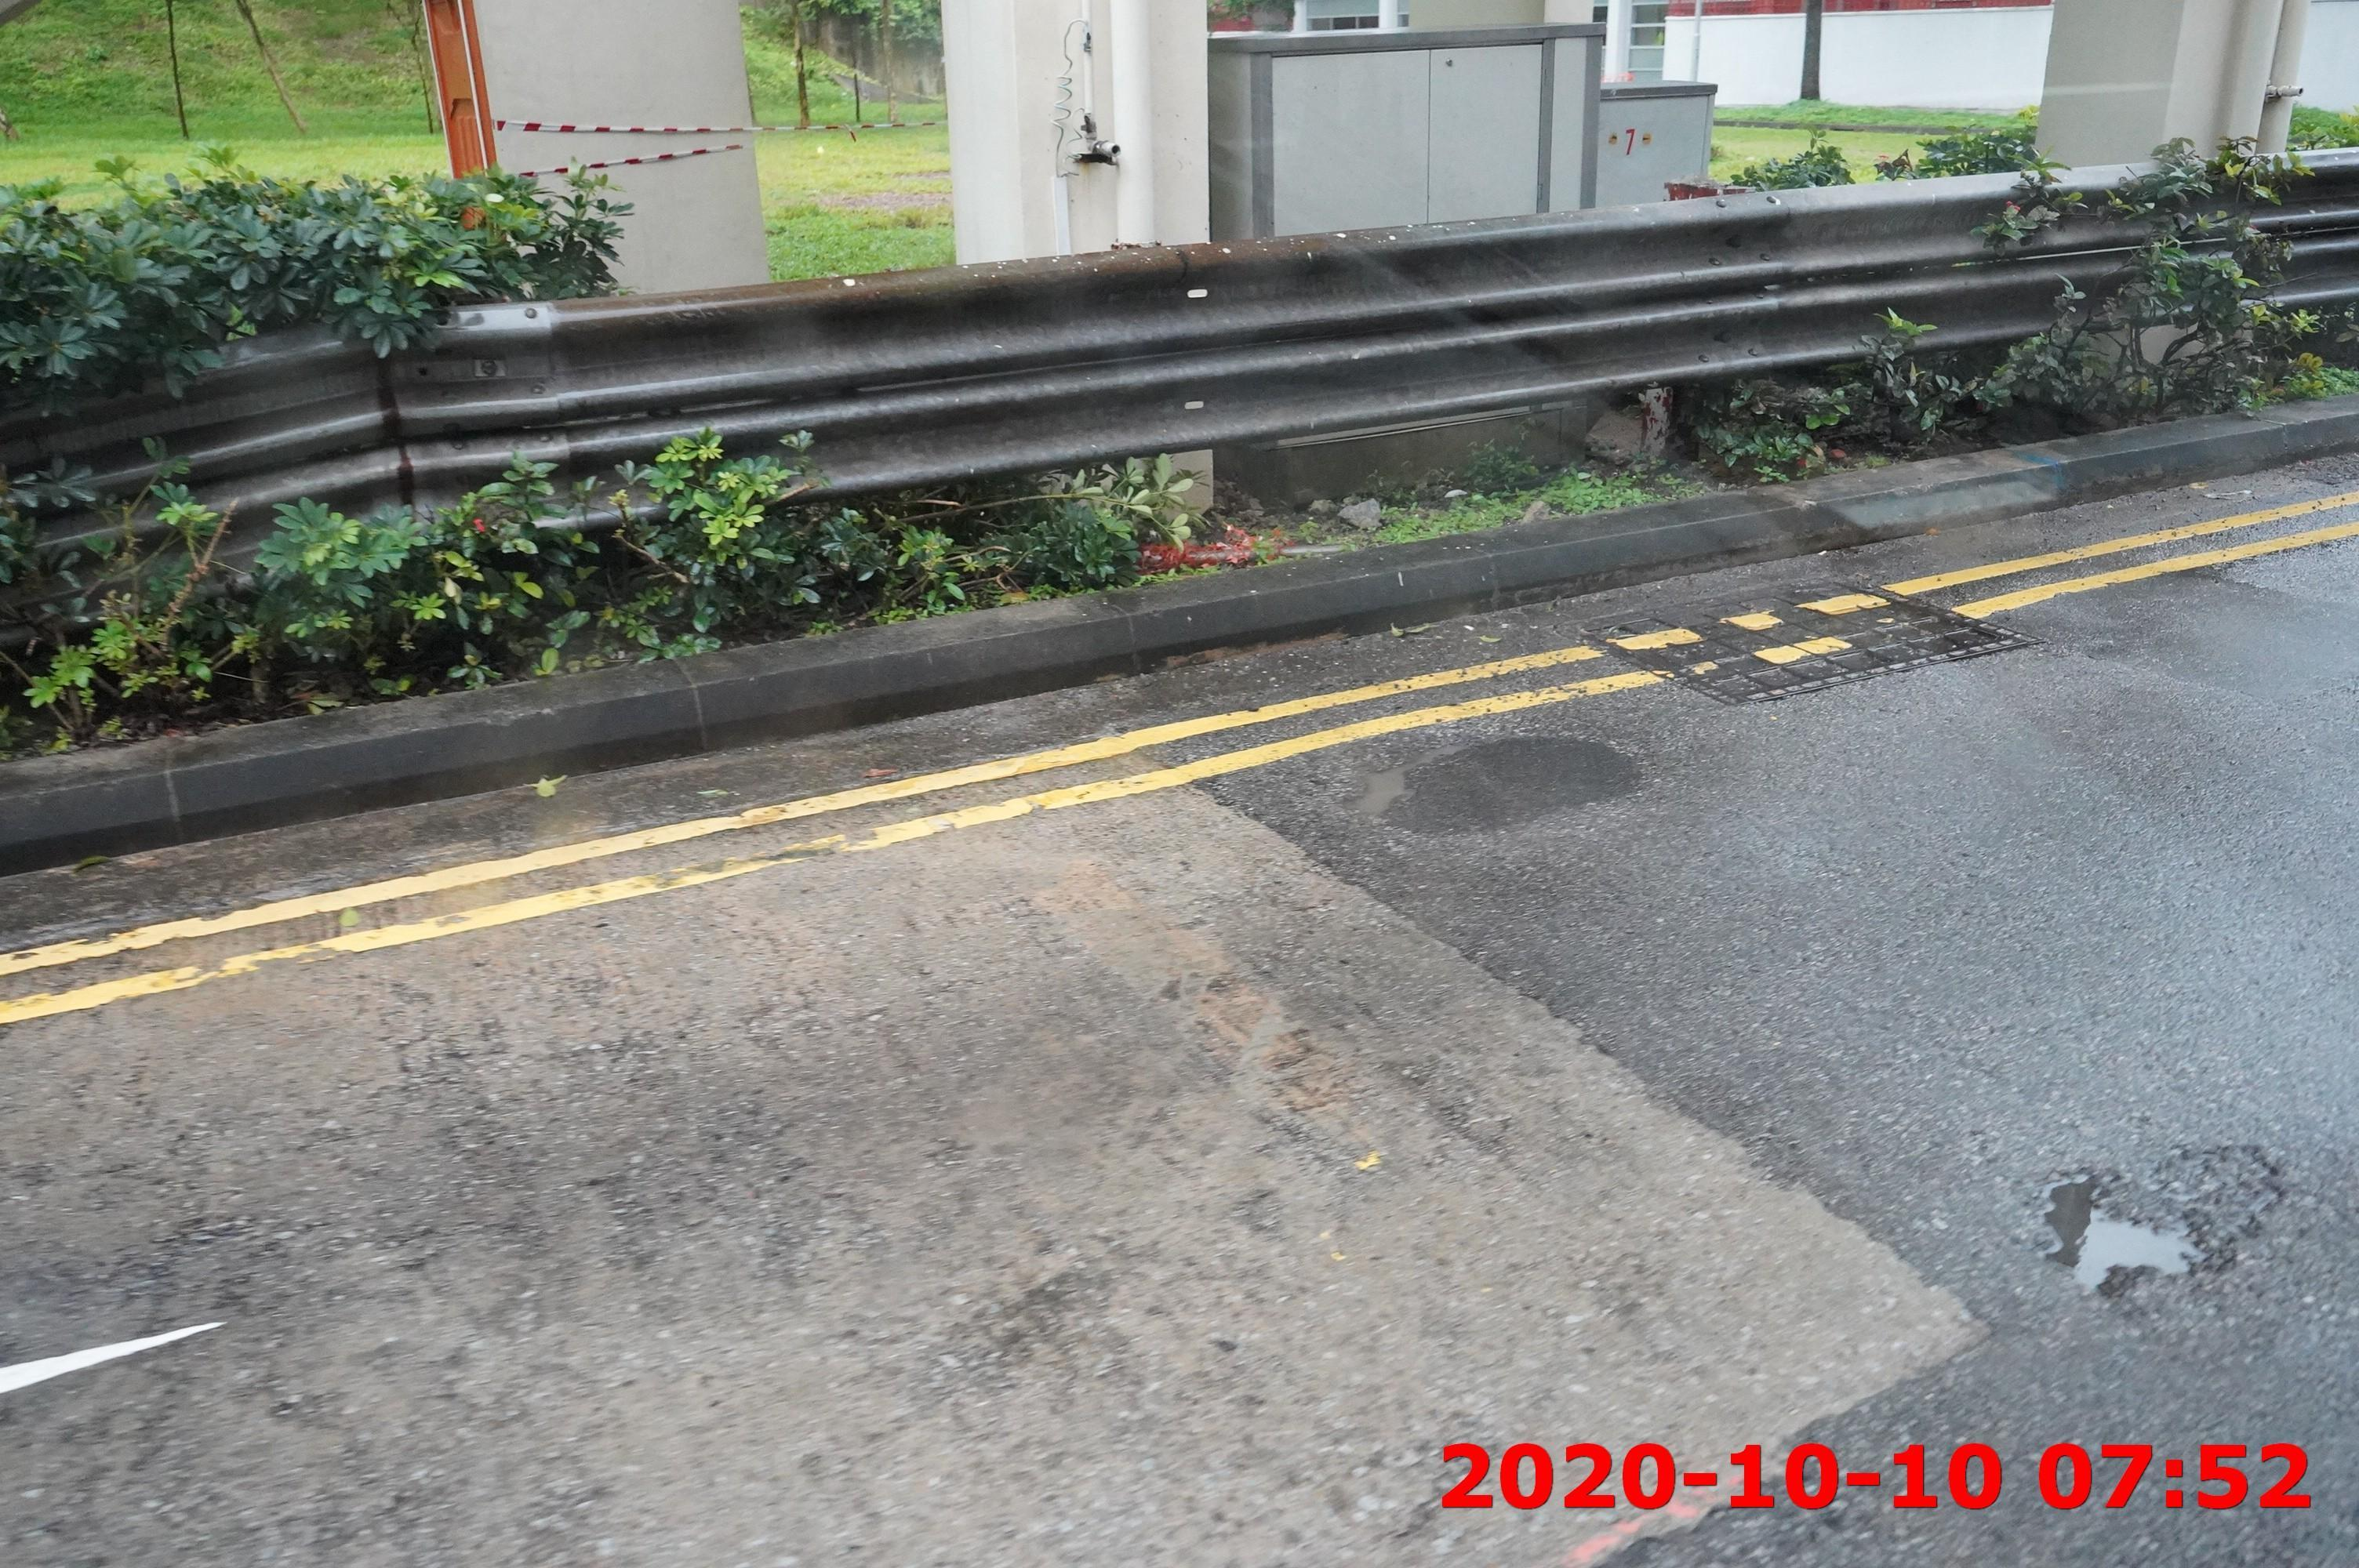pothole with crack: (2019, 1148, 2252, 1298)
